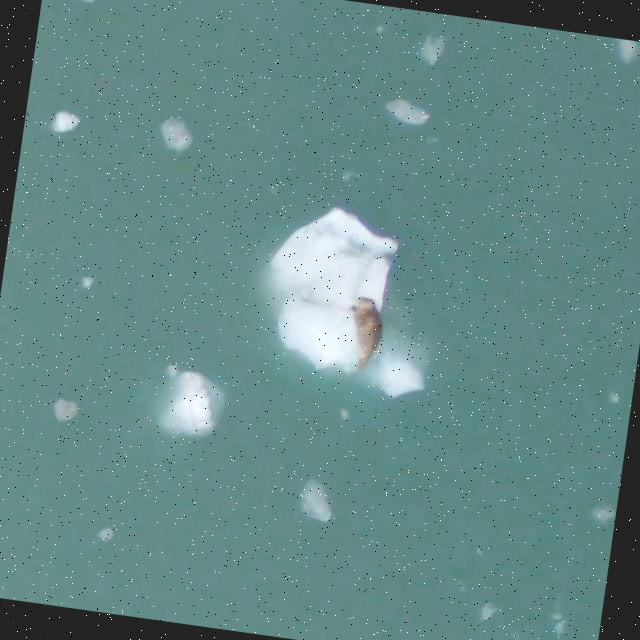seal: (347, 297, 384, 372)
